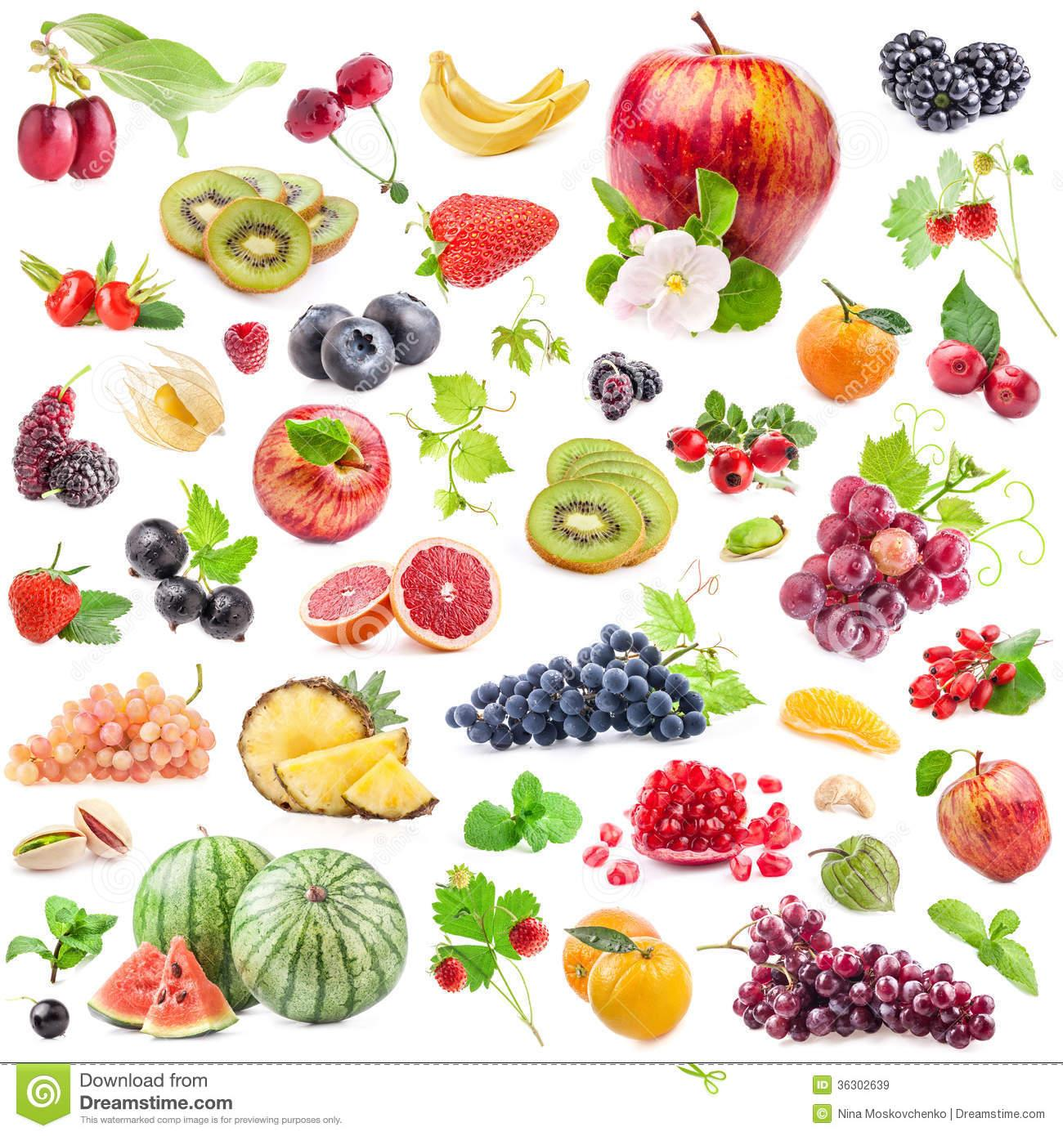chuoi: (421, 44, 594, 163)
dua_hau: (226, 845, 408, 1022)
